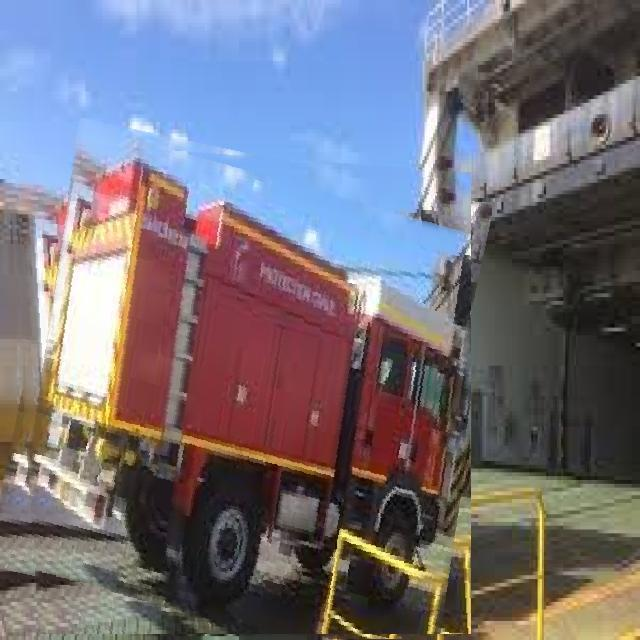Protection Civile: (6, 138, 471, 634)
